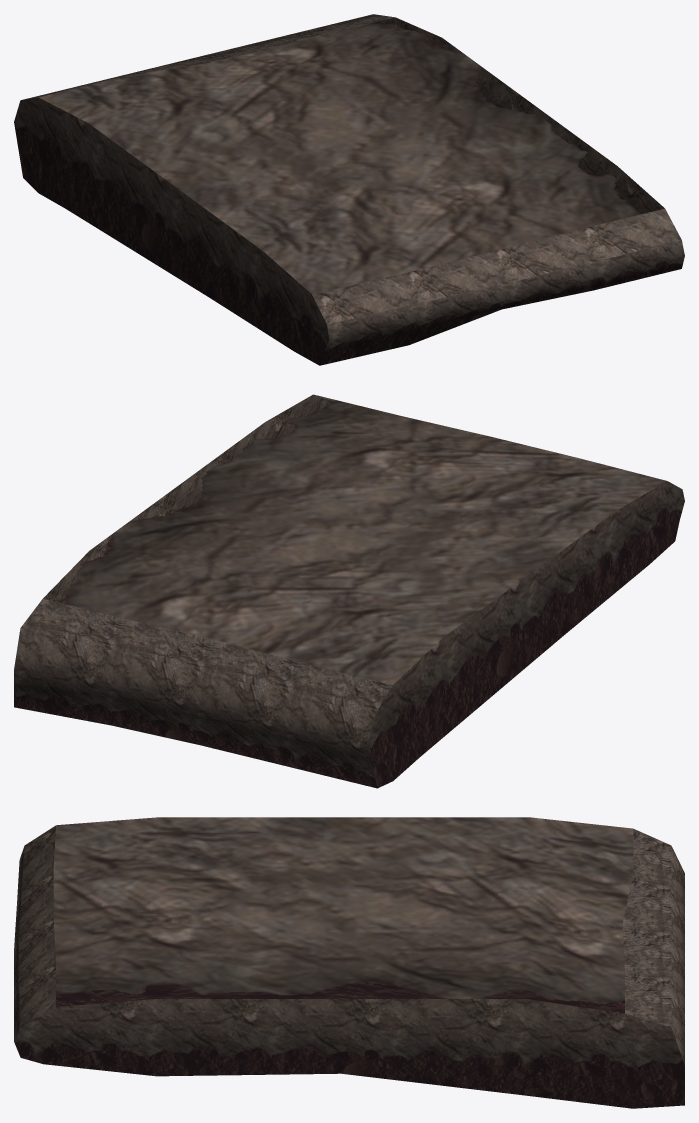
The model's file is LampLight_3DAsset_Platform1.FBX.
3 views of the same model, one above another, from view 1: azimuth 30°, elevation 25°; view 2: azimuth 150°, elevation 25°; view 3: azimuth 270°, elevation 25° (orthographic). The views are drawn at different scales.
Parts seen in each view (by area): view 1: platform003; view 2: platform003; view 3: platform003.
Boxes of the visible parts, x1,y1,x2,y2 form: platform003: (14,14,684,365); platform003: (14,394,684,788); platform003: (14,817,684,1108).
Bounding box in the file's own units: 14.24 × 4.11 × 22.23.
